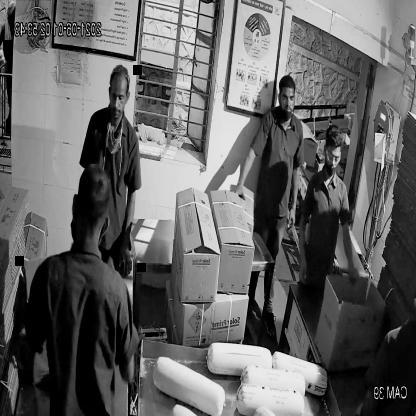goggles: (323, 140, 344, 169)
no_goggles: (105, 86, 132, 108), (275, 85, 299, 107)
